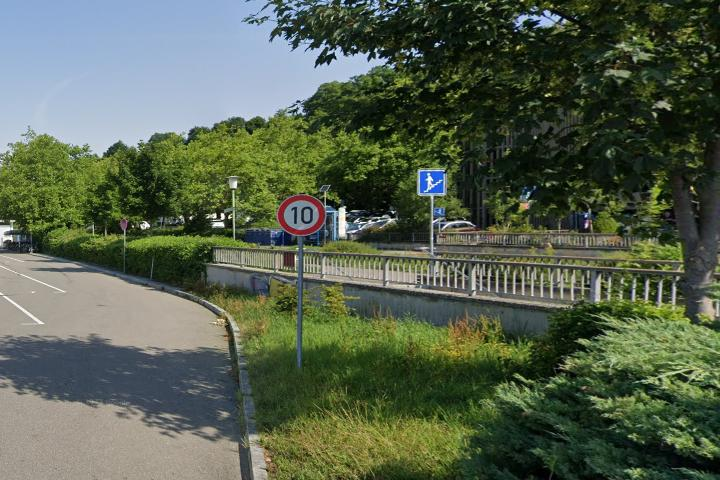traffic_sign: (278, 194, 326, 235), (417, 167, 447, 197)
